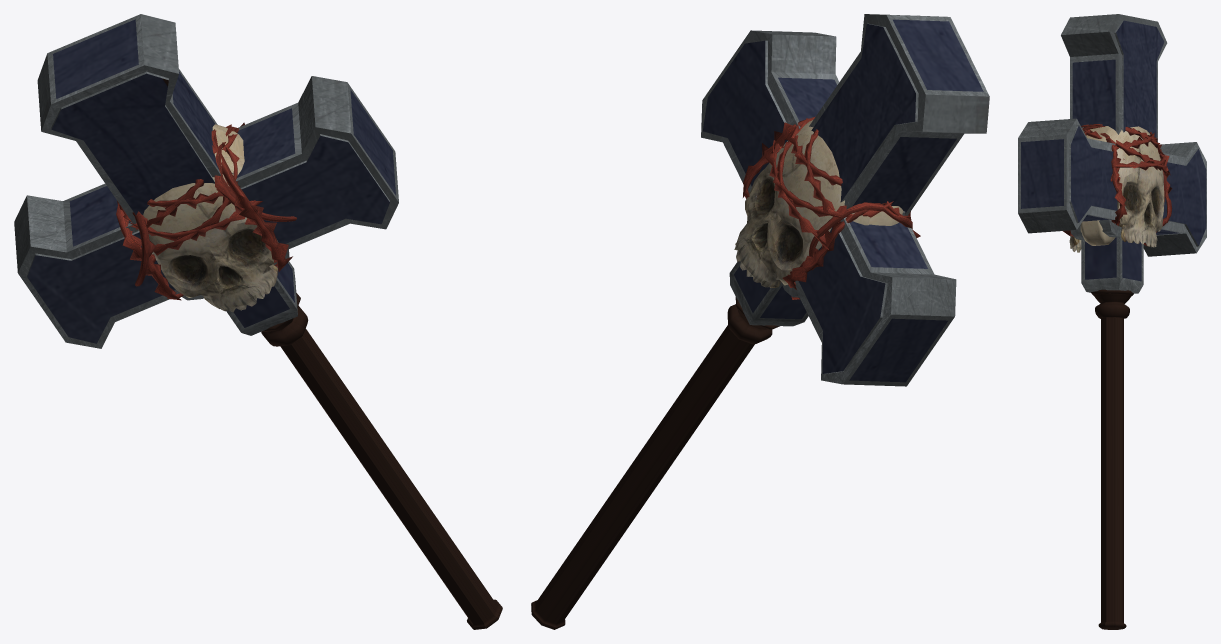
File: Penitence_Export.fbx
The picture shows the model from 3 angles, left to right: view 1: azimuth 30°, elevation 25°; view 2: azimuth 150°, elevation 25°; view 3: azimuth 270°, elevation 25°; orthographic projection. The views are drawn at different scales.
Visible parts, largest first — view 1: pCube8; view 2: pCube8; view 3: pCube8.
Boxes of the visible parts, x1,y1,x2,y2 form: pCube8: (14,14,502,629); pCube8: (531,14,989,629); pCube8: (1018,14,1206,629).
Size of the model in its own units: 2.14 by 3.12 by 1.07.
